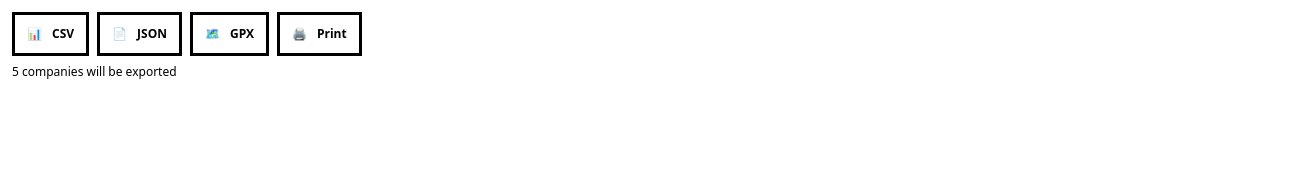
Test: CompanyExport › shows error when export fails
Click the button with aria-label "export as csv". click: (51, 34)
box: [12,12,89,56]
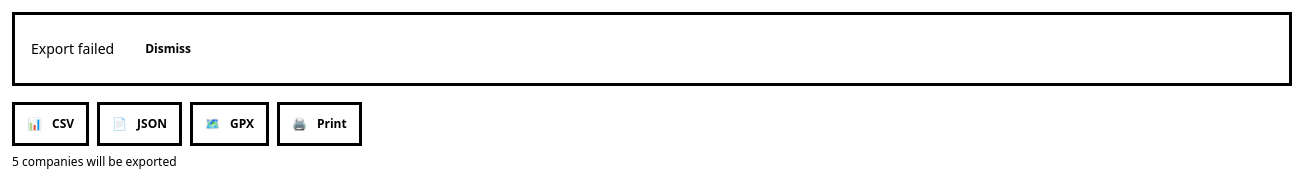
Now the text "Export failed" is shown, box [31,39,114,59]
